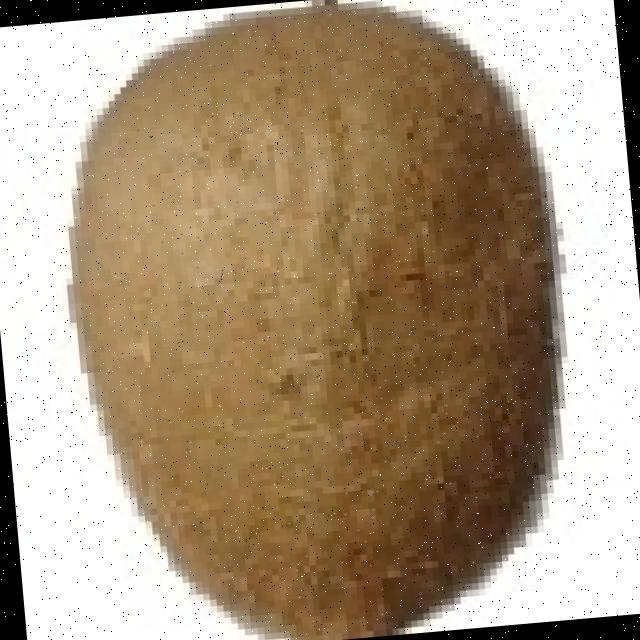kiwi: (64, 1, 542, 631)
